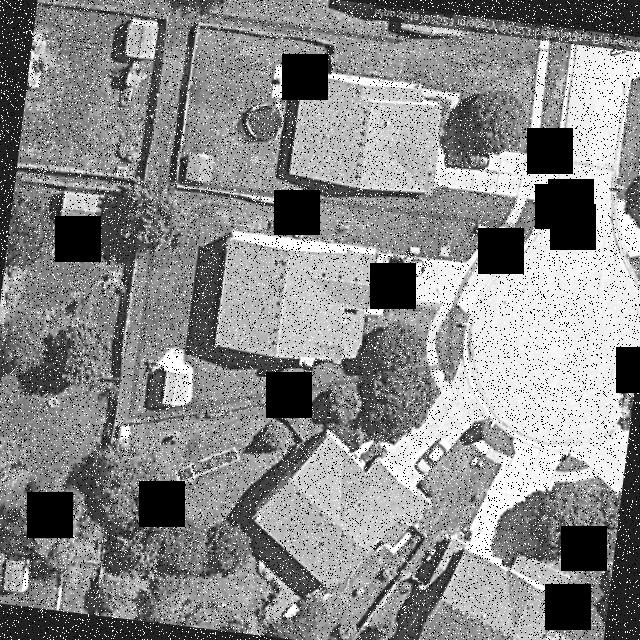Driveway: (368, 253, 472, 315), (458, 258, 510, 317)
Extra Lawn: (481, 225, 533, 263), (451, 307, 467, 365)
House: (215, 234, 375, 368)
Other: (146, 348, 193, 410), (476, 223, 487, 234), (440, 245, 450, 257), (408, 245, 420, 255), (293, 229, 304, 237), (266, 221, 273, 230)
Sidewalk: (425, 305, 454, 365), (468, 227, 510, 263)
